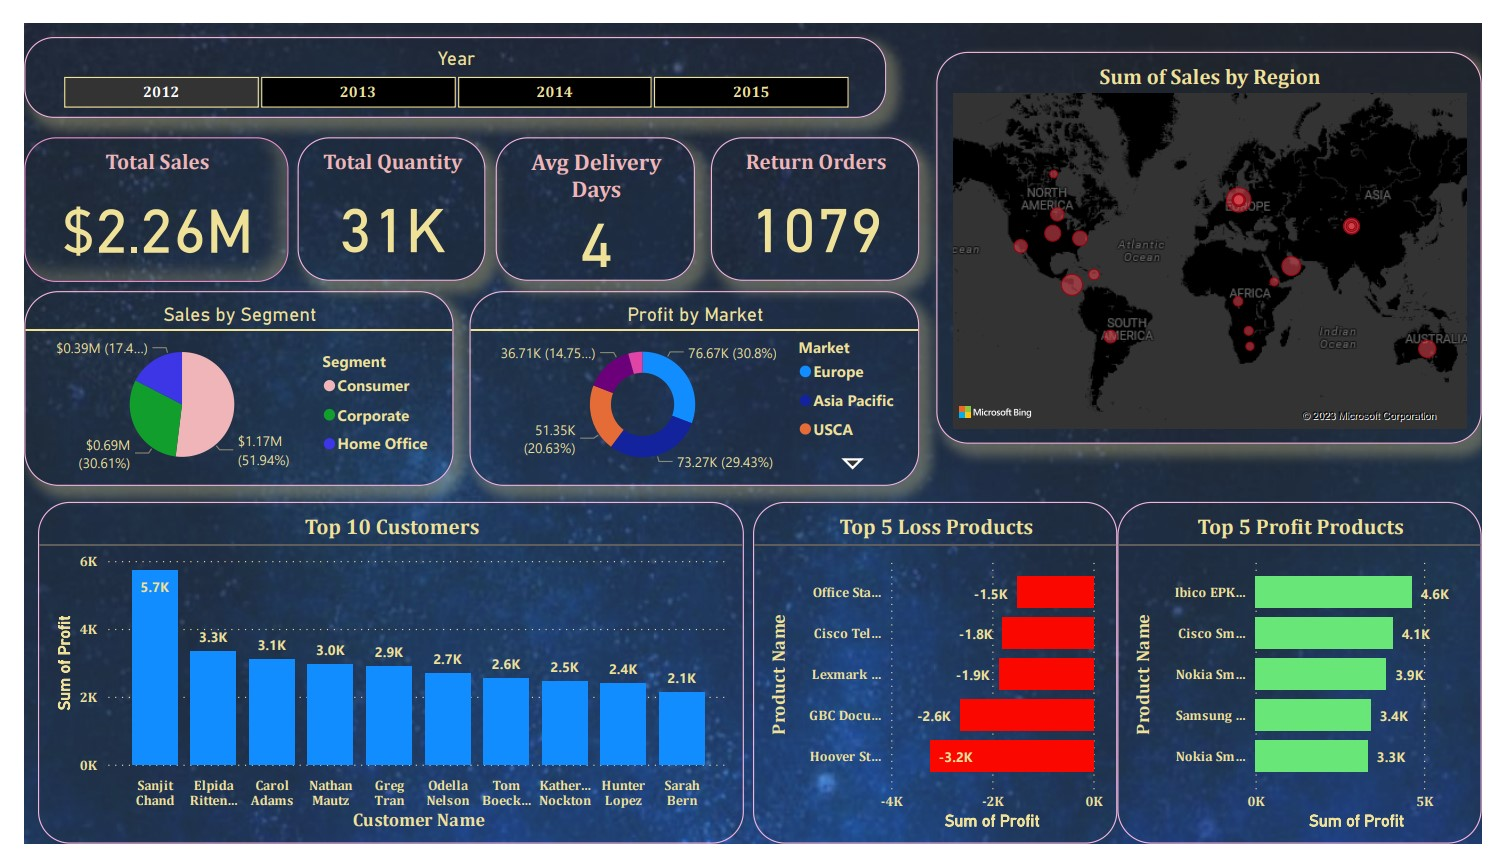

What the dashboard file says about the page in this screenshot:
{"tool":"powerbi","page":{"name":"Page 1","canvas":[1280,720],"ordinal":0},"visuals":[{"type":"card","title":"Total Sales","fields":{"Values":["Orders.Sales"]},"box":[0,100.1,231.6,126.6],"z":0},{"type":"card","title":"Total Quantity","fields":{"Values":["Orders.Quantity"]},"box":[240,100.1,165.2,125.4],"z":1000},{"type":"card","title":"Avg Delivery Days","fields":{"Values":["Orders.Delivery Days"]},"box":[413.7,100.1,174.9,125.4],"z":2000},{"type":"slicer","title":"Year","fields":{"Values":["Orders.Year"]},"box":[0,12.1,757.4,71.2],"z":3000},{"type":"card","title":"Return Orders","fields":{"Values":["Returns.Return orders"]},"box":[603,100.1,183.3,125.4],"z":4000},{"type":"map","fields":{"Category":["Orders.Region"],"Size":["Orders.Sales"]},"box":[800.8,25.3,478.8,343.7],"z":5000},{"type":"barChart","title":"Top 5 Profit Products","fields":{"Y":["Orders.Profit"],"Category":["Orders.Product Name"]},"box":[960,419.7,319.6,300.3],"z":6000},{"type":"barChart","title":"Top 5 Loss Products","fields":{"Y":["Orders.Profit"],"Category":["Orders.Product Name"]},"box":[640.4,419.7,319.6,300.3],"z":6001},{"type":"pieChart","title":"Sales by Segment","fields":{"Category":["Orders.Segment"],"Y":["Orders.Sales"]},"box":[0,235.2,377.5,171.3],"z":6002},{"type":"donutChart","title":"Profit by Market","fields":{"Category":["Orders.Market"],"Y":["Orders.Profit"]},"box":[390.8,235.2,395.6,171.3],"z":6003},{"type":"columnChart","title":"Top 10 Customers","fields":{"Category":["Orders.Customer Name"],"Y":["Orders.Profit"]},"box":[12.1,419.7,619.9,300.3],"z":6004}]}

Visuals, with their boxes in screenshot pixels (x1, y1, x2, y2), scaled from the page's 1280x720 canvas onto the 1507x865 screenshot:
"Total Sales" card: <region>0, 120, 273, 272</region>
"Total Quantity" card: <region>283, 120, 477, 271</region>
"Avg Delivery Days" card: <region>487, 120, 693, 271</region>
"Year" slicer: <region>0, 15, 892, 100</region>
"Return Orders" card: <region>710, 120, 926, 271</region>
map - Orders.Region x Orders.Sales: <region>943, 30, 1506, 443</region>
"Top 5 Profit Products" barChart: <region>1130, 504, 1506, 864</region>
"Top 5 Loss Products" barChart: <region>754, 504, 1130, 864</region>
"Sales by Segment" pieChart: <region>0, 283, 444, 488</region>
"Profit by Market" donutChart: <region>460, 283, 926, 488</region>
"Top 10 Customers" columnChart: <region>14, 504, 744, 864</region>
